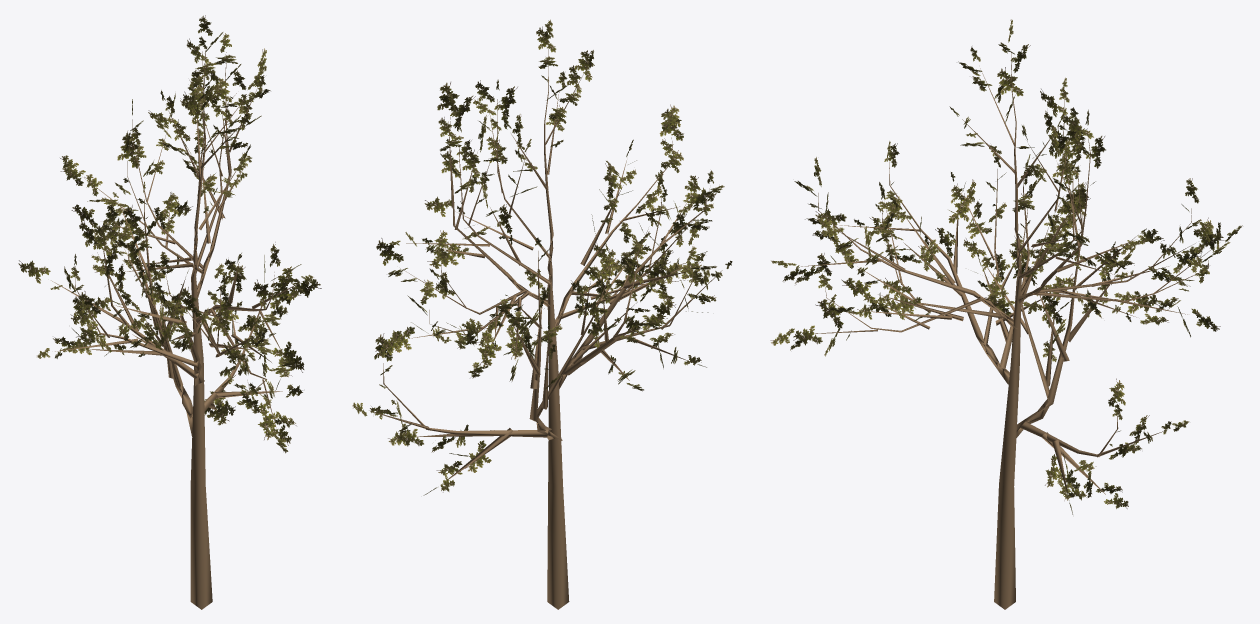
Rendered from blossom-lod2.glb.
3 views of the same model, side by side, from view 1: azimuth 30°, elevation 25°; view 2: azimuth 150°, elevation 25°; view 3: azimuth 270°, elevation 25° (orthographic).
Parts seen in each view (by area): view 1: leaf cards, branches; view 2: leaf cards, branches; view 3: leaf cards, branches.
Boxes of the visible parts, left/top/right/bottom form: leaf cards: left=18, top=15, right=321, bottom=453; branches: left=51, top=50, right=300, bottom=609; leaf cards: left=352, top=19, right=732, bottom=495; branches: left=369, top=48, right=722, bottom=609; leaf cards: left=770, top=19, right=1242, bottom=514; branches: left=800, top=53, right=1210, bottom=609.
Size of the model in its own units: 2.68 by 5.04 by 3.73.
Materials: 2 (1 with a texture image).
